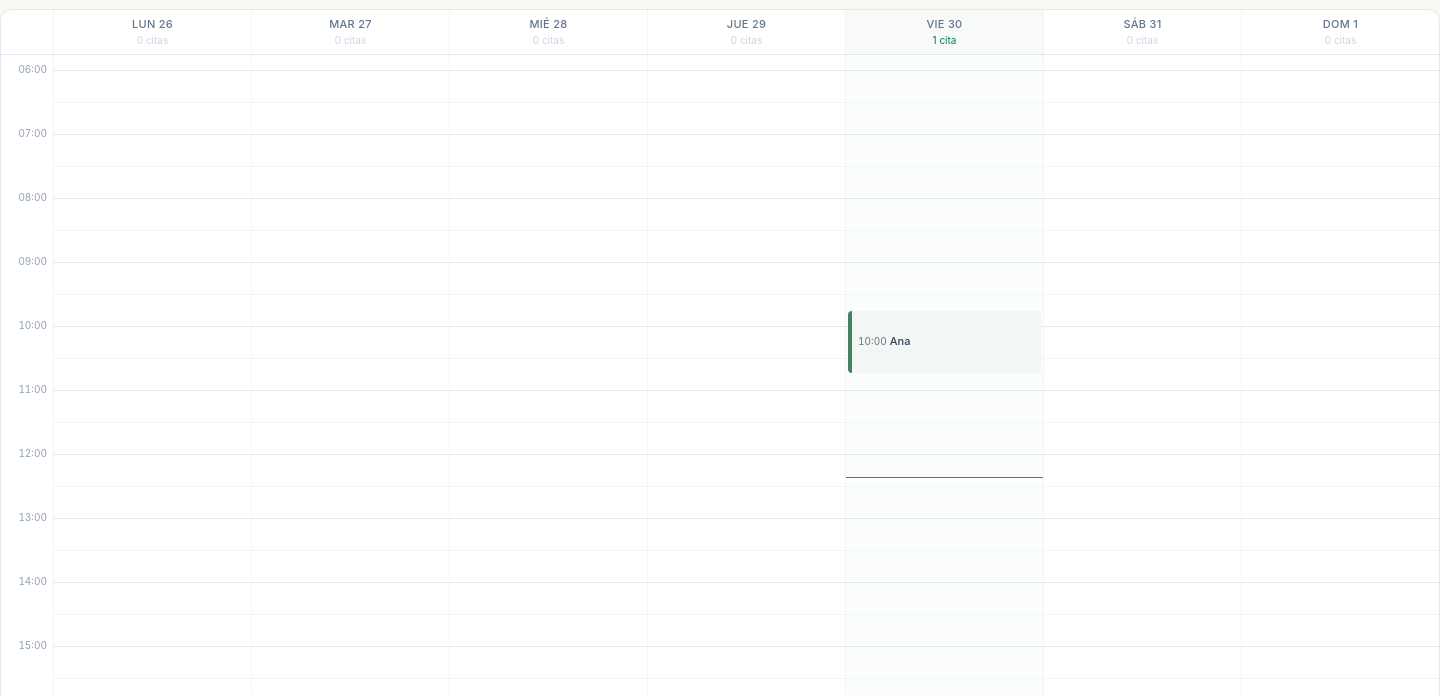
Test: El bono y los pagos, al desplegar la cita › enseña por cuántas va, lo que ha pagado y lo que debe
Click the text "Ana": point(900, 341) top-left (890, 334), bottom-right (910, 348)
(page scrolled)
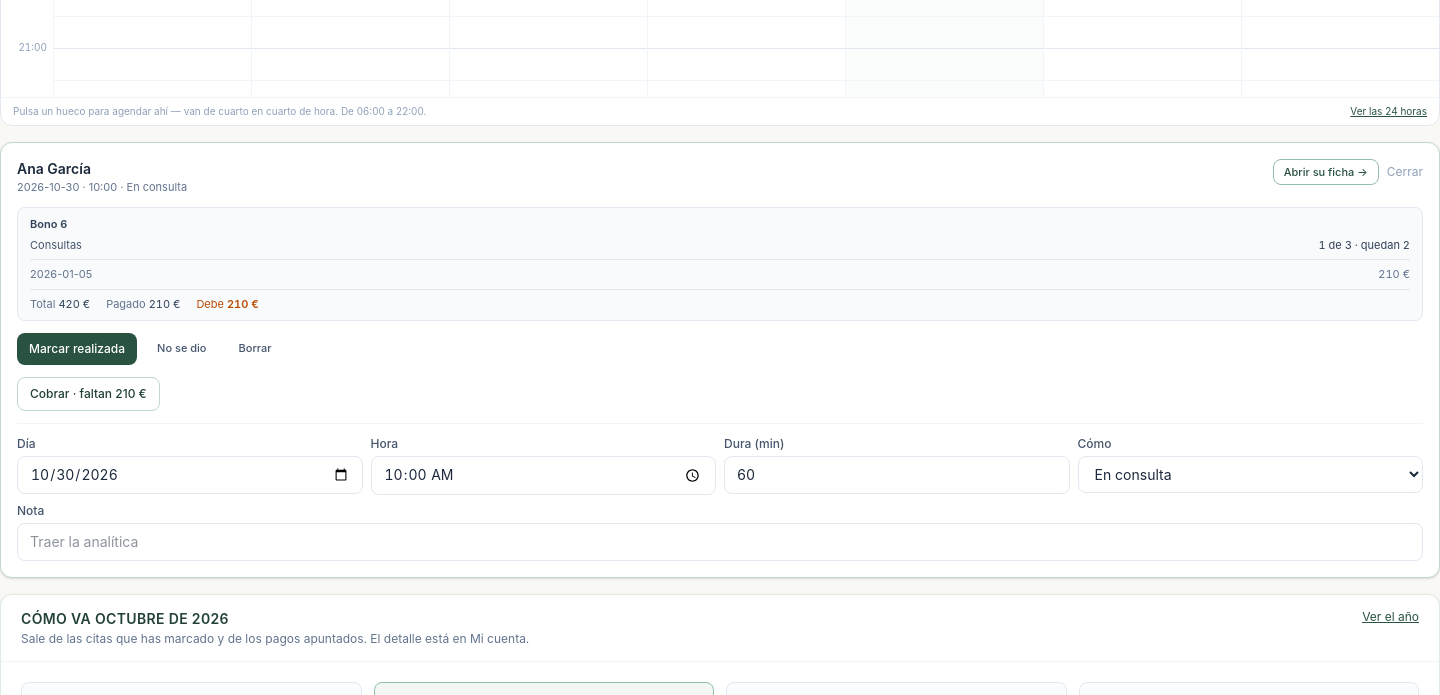
Expected: the text "Consultas" is shown, top-left (30, 236), bottom-right (82, 253)
Expected: the text "1 de 3 · quedan 2" is shown, top-left (1318, 236), bottom-right (1410, 253)
Expected: the text "2026-01-05" is shown, top-left (30, 266), bottom-right (92, 282)
